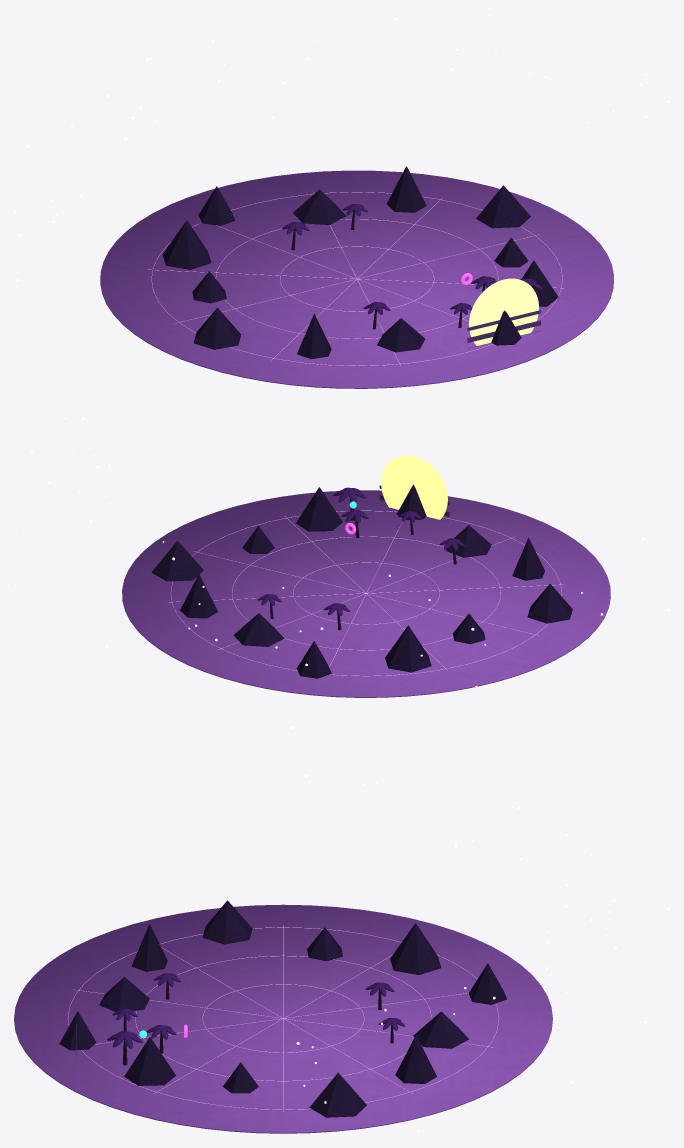
Rendered from stage-synth.glb.
3 renders of one model, top to bottom at view 1: azimuth 30°, elevation 25°; view 2: azimuth 150°, elevation 25°; view 3: azimuth 270°, elevation 25°, orthographic. The views are drawn at different scales.
Parts seen in each view (by area): view 1: stage-synth-diorama-floor, stage-synth, Torus.002; view 2: stage-synth-diorama-floor, stage-synth, Torus.002; view 3: stage-synth-diorama-floor, stage-synth, Torus.002.
Boxes of the visible parts, x1=… form: stage-synth-diorama-floor: x1=100, y1=170, x2=613, y2=388; stage-synth: x1=162, y1=166, x2=558, y2=359; Torus.002: x1=151, y1=192, x2=562, y2=365; stage-synth-diorama-floor: x1=122, y1=490, x2=610, y2=697; stage-synth: x1=151, y1=455, x2=572, y2=678; Torus.002: x1=170, y1=510, x2=561, y2=676; stage-synth-diorama-floor: x1=14, y1=904, x2=552, y2=1133; stage-synth: x1=59, y1=900, x2=506, y2=1117; Torus.002: x1=67, y1=927, x2=499, y2=1109.
Bounding box in the file's own units: 132 × 28.38 × 108.
26 materials, 26 textured.
